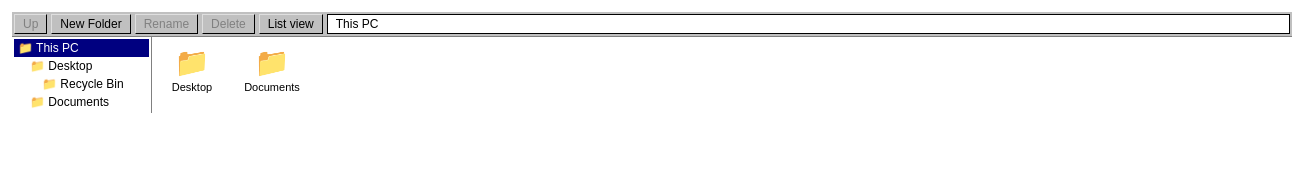
navigation › Recycle Bin lives inside Desktop, not directly under This PC
This screenshot has width=1292, height=172.
Double-click the text "Desktop": point(192, 87) x1=172 y1=81 x2=212 y2=93
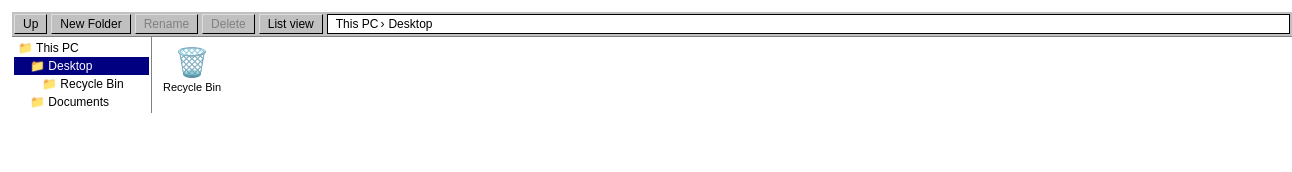
Expected: the text "Recycle Bin" is shown, x1=163 y1=81 x2=221 y2=93
